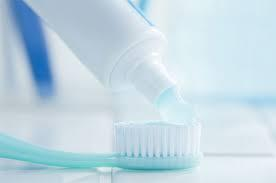toothpaste: (20, 1, 190, 106)
